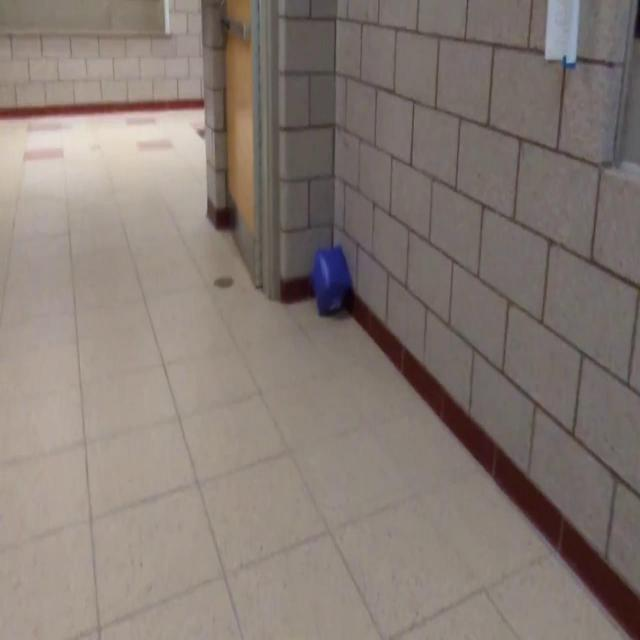frc_cube: (313, 244, 352, 322)
